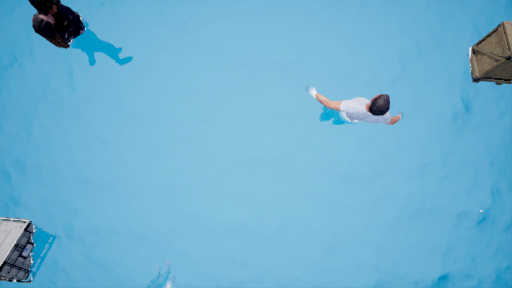person: (30, 2, 140, 72), (312, 81, 406, 133)
